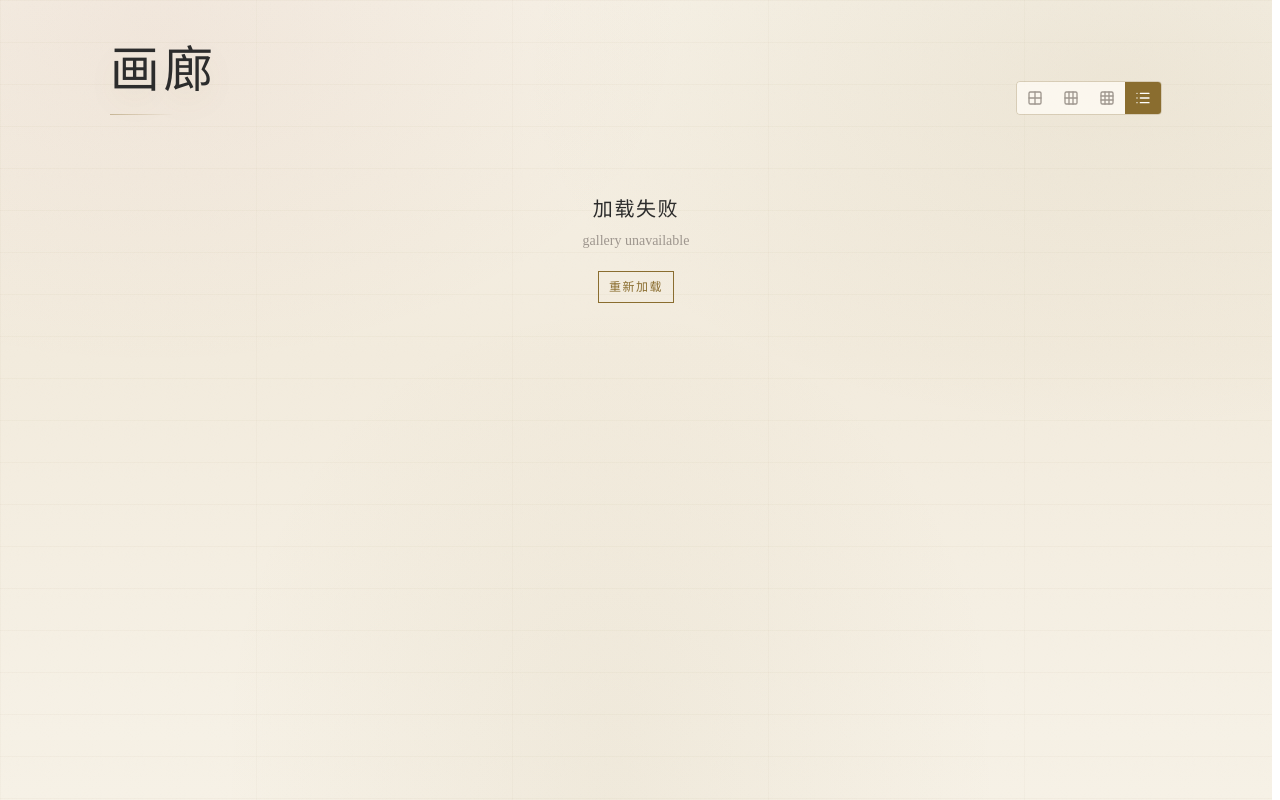
Scenario: 画廊列表加载状态 › 请求失败显示错误和重试按钮，而不是成功空态
Expected: the message shows "加载失败", [593,198,679,220]
Click the button "重新加载" at point(636, 287), box [598,271,674,303]
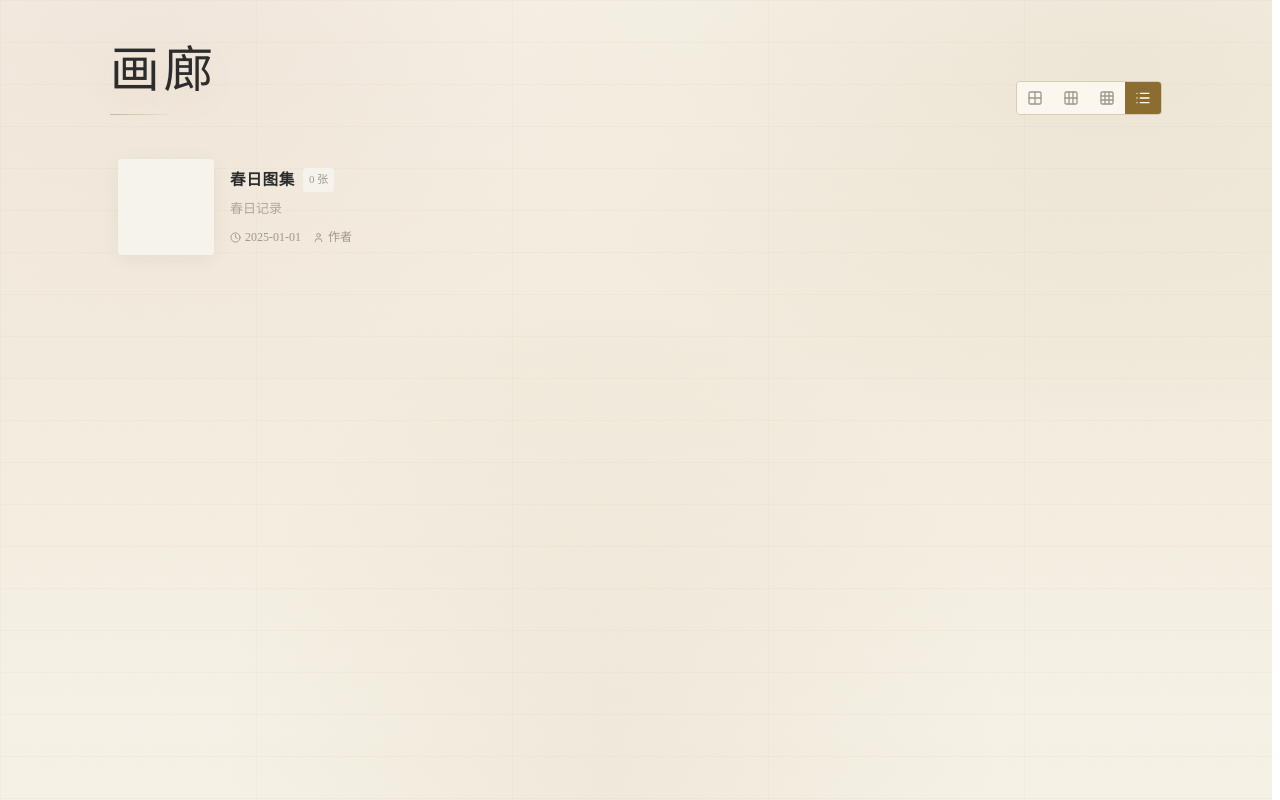
Result: the heading "春日图集" is shown at [230,166,295,194]
